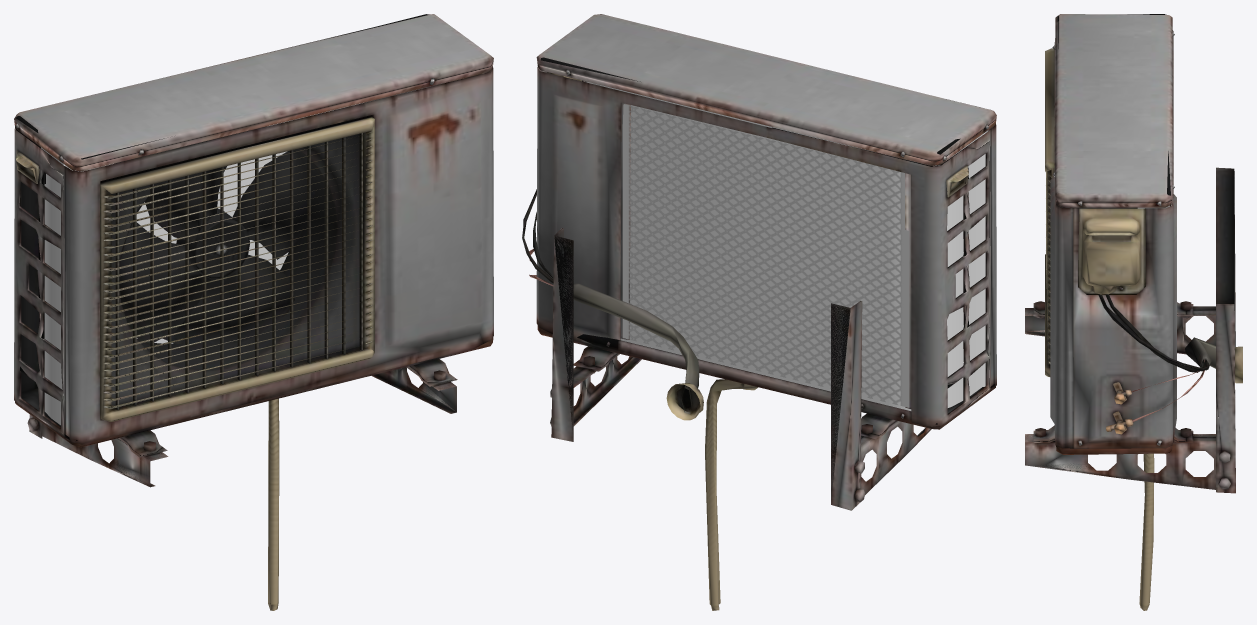
Rendered from exterior_aircon_unit-rusted.glb.
3 views of the same model, side by side, from view 1: azimuth 30°, elevation 25°; view 2: azimuth 150°, elevation 25°; view 3: azimuth 270°, elevation 25° (orthographic). The views are drawn at different scales.
Parts seen in each view (by area): view 1: exterior_aircon_unit_rusted; view 2: exterior_aircon_unit_rusted; view 3: exterior_aircon_unit_rusted.
Part boxes in pixels (bbox=[...]): exterior_aircon_unit_rusted: bbox=[14, 14, 493, 610]; exterior_aircon_unit_rusted: bbox=[522, 14, 996, 610]; exterior_aircon_unit_rusted: bbox=[1025, 14, 1242, 610].
Size of the model in its own units: 0.7961 by 0.9279 by 0.3742.
2 materials, 2 textured.
